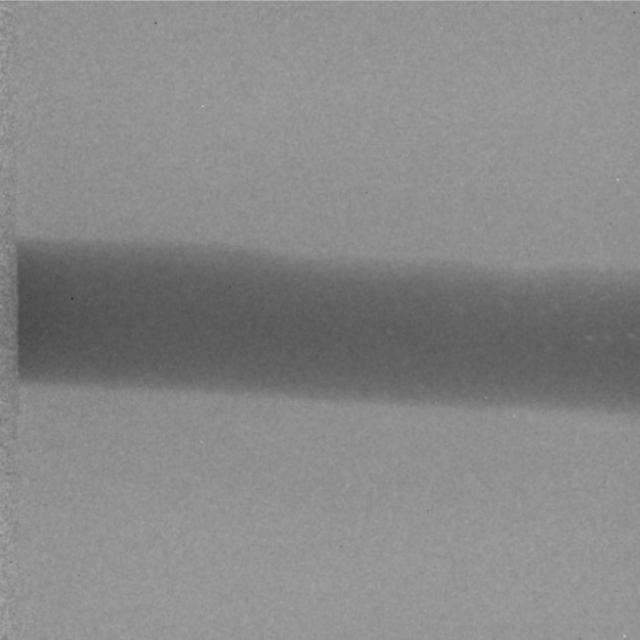air hole: (499, 296, 516, 314), (582, 329, 597, 346), (534, 303, 548, 319), (622, 326, 635, 341), (601, 329, 613, 342)
